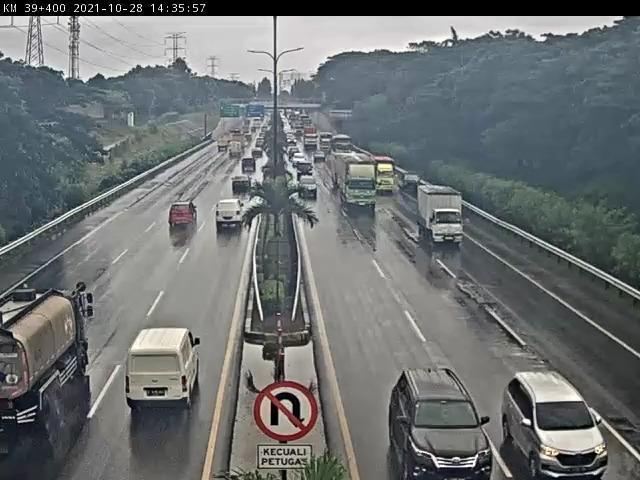car: (388, 366, 491, 480), (506, 371, 613, 479), (122, 321, 217, 421), (160, 199, 203, 240), (207, 200, 243, 236), (400, 171, 428, 203), (297, 173, 323, 202), (231, 176, 256, 195), (294, 165, 318, 182), (237, 158, 258, 177), (311, 150, 329, 165), (292, 154, 311, 168)
truck: (1, 280, 101, 475), (317, 149, 382, 218), (411, 186, 469, 248), (372, 156, 400, 200)
